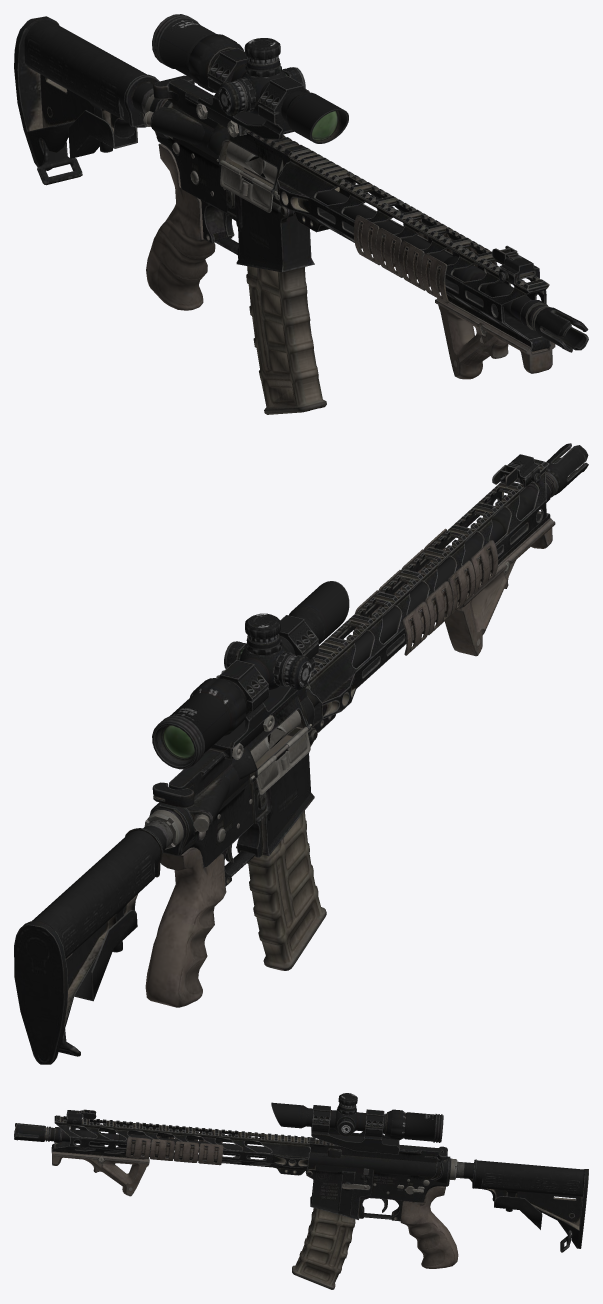
Rendered from ar15Attack.glb.
The picture shows the model from 3 angles, top to bottom: view 1: azimuth 30°, elevation 25°; view 2: azimuth 150°, elevation 25°; view 3: azimuth 270°, elevation 25°; orthographic projection. The views are drawn at different scales.
Visible parts, largest first — view 1: ar114Fifteen_low_Base and Stock_0, Handguard_Handguard_0, Scope_Scope Handle Mag_0, ar117Fifteen_low_Base and Stock_0, mag_Scope Handle Mag_0, grip_Scope Handle Mag_0, handle_Scope Handle Mag_0, ar118Fifteen_low_Base and Stock_0, ar93Fifteen_low_Base and Stock_0, sight_Scope Handle Mag_0, ar122Fifteen_low_Base and Stock_0, ar85Fifteen_low_Base and Stock_0; view 2: ar114Fifteen_low_Base and Stock_0, Handguard_Handguard_0, ar117Fifteen_low_Base and Stock_0, Scope_Scope Handle Mag_0, grip_Scope Handle Mag_0, mag_Scope Handle Mag_0, handle_Scope Handle Mag_0, ar118Fifteen_low_Base and Stock_0, ar93Fifteen_low_Base and Stock_0, sight_Scope Handle Mag_0, upper receiver part_Scope Handle Mag_0, ar85Fifteen_low_Base and Stock_0; view 3: ar114Fifteen_low_Base and Stock_0, Handguard_Handguard_0, Scope_Scope Handle Mag_0, ar117Fifteen_low_Base and Stock_0, mag_Scope Handle Mag_0, grip_Scope Handle Mag_0, handle_Scope Handle Mag_0, ar118Fifteen_low_Base and Stock_0, sight_Scope Handle Mag_0.
Boxes of the visible parts, <box> form: ar114Fifteen_low_Base and Stock_0: <box>149,78,588,352</box>; Handguard_Handguard_0: <box>277,148,551,351</box>; Scope_Scope Handle Mag_0: <box>152,14,348,143</box>; ar117Fifteen_low_Base and Stock_0: <box>14,16,159,170</box>; mag_Scope Handle Mag_0: <box>246,266,326,414</box>; grip_Scope Handle Mag_0: <box>146,143,215,310</box>; handle_Scope Handle Mag_0: <box>435,298,555,379</box>; ar118Fifteen_low_Base and Stock_0: <box>68,110,137,158</box>; ar93Fifteen_low_Base and Stock_0: <box>216,159,277,212</box>; sight_Scope Handle Mag_0: <box>492,245,539,284</box>; ar122Fifteen_low_Base and Stock_0: <box>37,140,82,185</box>; ar85Fifteen_low_Base and Stock_0: <box>226,141,277,183</box>; ar114Fifteen_low_Base and Stock_0: <box>149,443,588,886</box>; Handguard_Handguard_0: <box>305,459,550,732</box>; ar117Fifteen_low_Base and Stock_0: <box>14,810,183,1064</box>; Scope_Scope Handle Mag_0: <box>152,581,349,769</box>; grip_Scope Handle Mag_0: <box>145,847,226,1007</box>; mag_Scope Handle Mag_0: <box>247,811,326,970</box>; handle_Scope Handle Mag_0: <box>444,518,555,656</box>; ar118Fifteen_low_Base and Stock_0: <box>74,910,137,1001</box>; ar93Fifteen_low_Base and Stock_0: <box>250,724,311,794</box>; sight_Scope Handle Mag_0: <box>492,454,540,487</box>; upper receiver part_Scope Handle Mag_0: <box>152,782,194,808</box>; ar85Fifteen_low_Base and Stock_0: <box>250,710,301,763</box>; ar114Fifteen_low_Base and Stock_0: <box>14,1123,450,1221</box>; Handguard_Handguard_0: <box>51,1115,310,1175</box>; Scope_Scope Handle Mag_0: <box>271,1093,443,1154</box>; ar117Fifteen_low_Base and Stock_0: <box>450,1158,588,1248</box>; mag_Scope Handle Mag_0: <box>292,1208,355,1289</box>; grip_Scope Handle Mag_0: <box>400,1186,458,1268</box>; handle_Scope Handle Mag_0: <box>52,1151,149,1196</box>; ar118Fifteen_low_Base and Stock_0: <box>494,1196,542,1229</box>; sight_Scope Handle Mag_0: <box>66,1109,96,1124</box>.
Size of what is drawn, in the model's own units: 0.0783 by 0.3646 by 0.9912.
3 materials, 3 textured.
